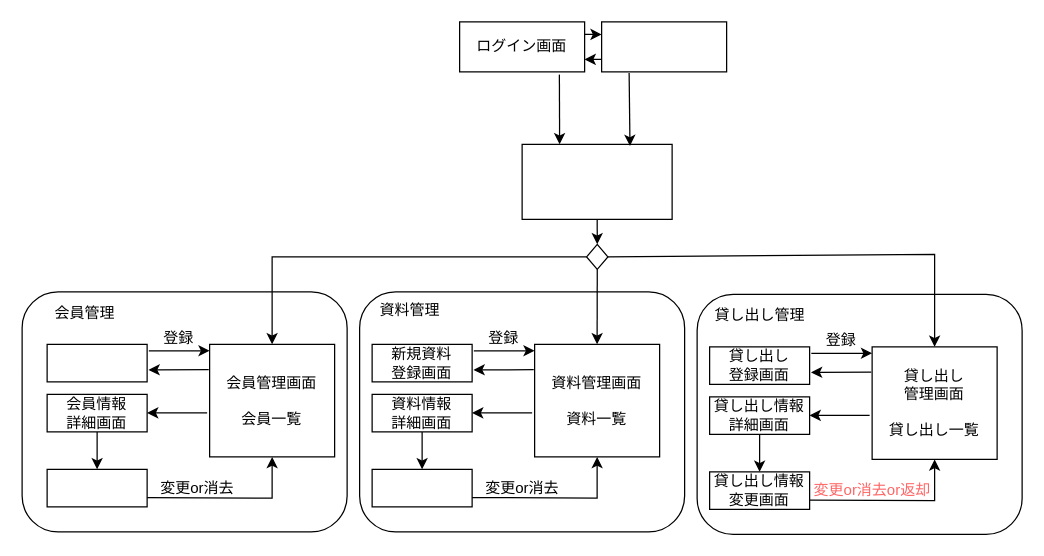
The diagram is 1044 pixels wide and 556 high, and some of its shapes have lost their labels. The centre of each missing label's shape, as x and y in pixels:
"アカウント 登録画面" goes at point 663,46.
"会員情報 変更画面" goes at point 96,487.
"新規会員 登録画面" goes at point 96,362.
"管理メイン画面" goes at point 596,181.
"資料情報 変更画面" goes at point 421,487.
